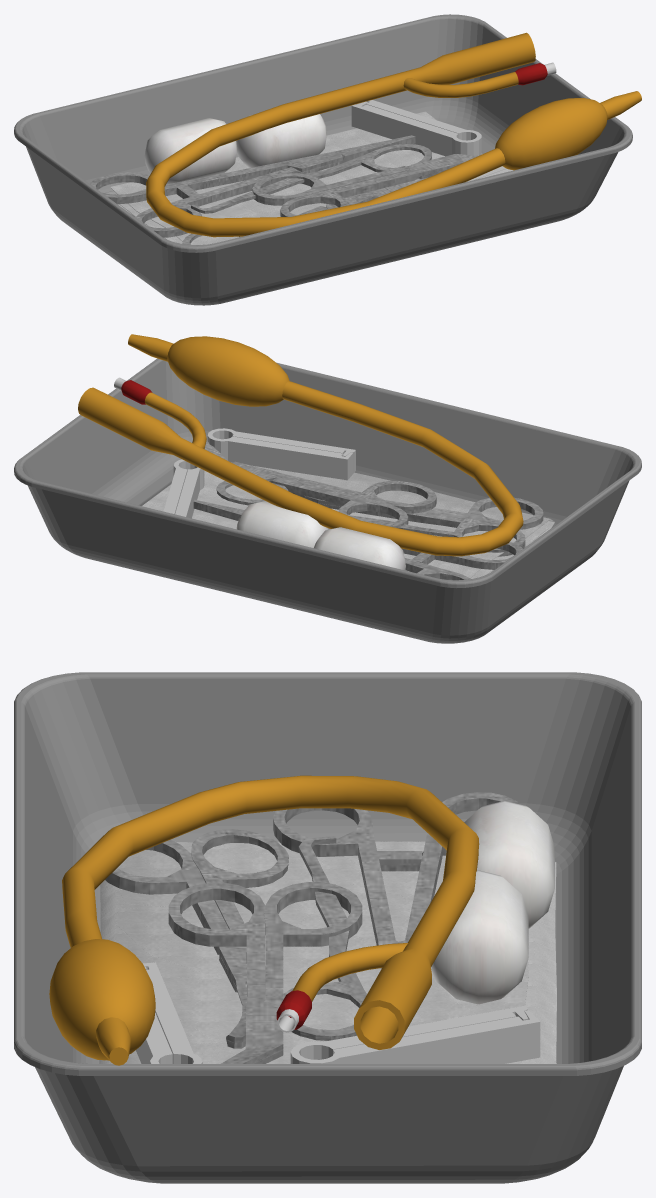
The model's file is Partus_set_1_set.fbx.
3 views of the same model, one above another, from view 1: azimuth 30°, elevation 25°; view 2: azimuth 150°, elevation 25°; view 3: azimuth 270°, elevation 25° (orthographic). The views are drawn at different scales.
Parts seen in each view (by area): view 1: Partus_set_1_set; view 2: Partus_set_1_set; view 3: Partus_set_1_set.
Part boxes in pixels (x1,y1,x2,y2): Partus_set_1_set: (14, 14, 641, 305); Partus_set_1_set: (14, 334, 641, 643); Partus_set_1_set: (14, 672, 641, 1183).
Size of the model in its own units: 29.79 by 6.83 by 19.09.
7 materials, 3 textured.
